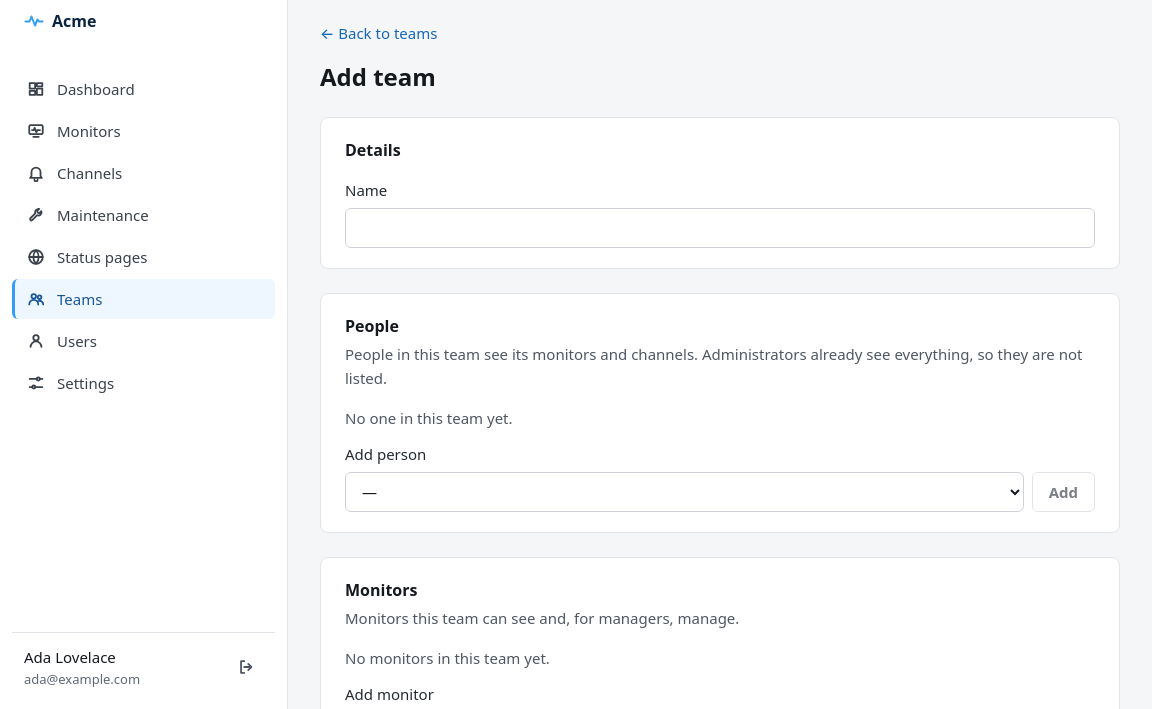
it: Teams pages › shows a duplicate name error next to the field
Type "Platform" into the field labelled "Name" at (720, 228), box [345,208,1095,248]
(page scrolled)
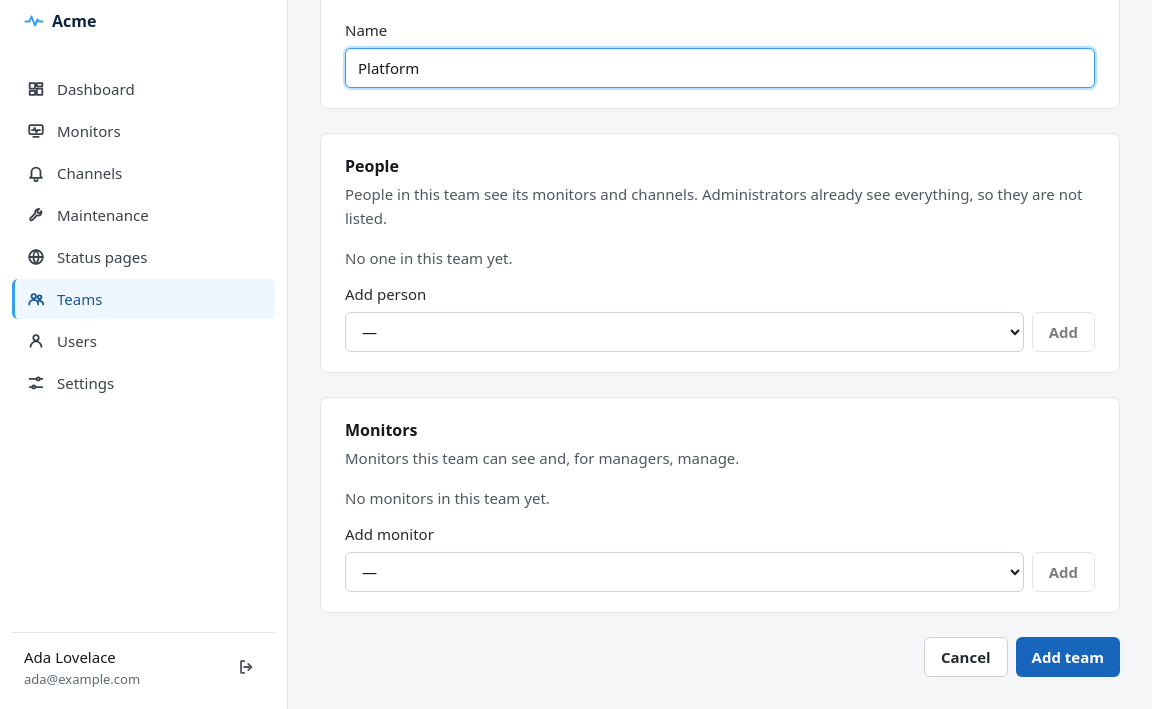
Click the button "Add team" at (1068, 657), box [1016,637,1120,677]
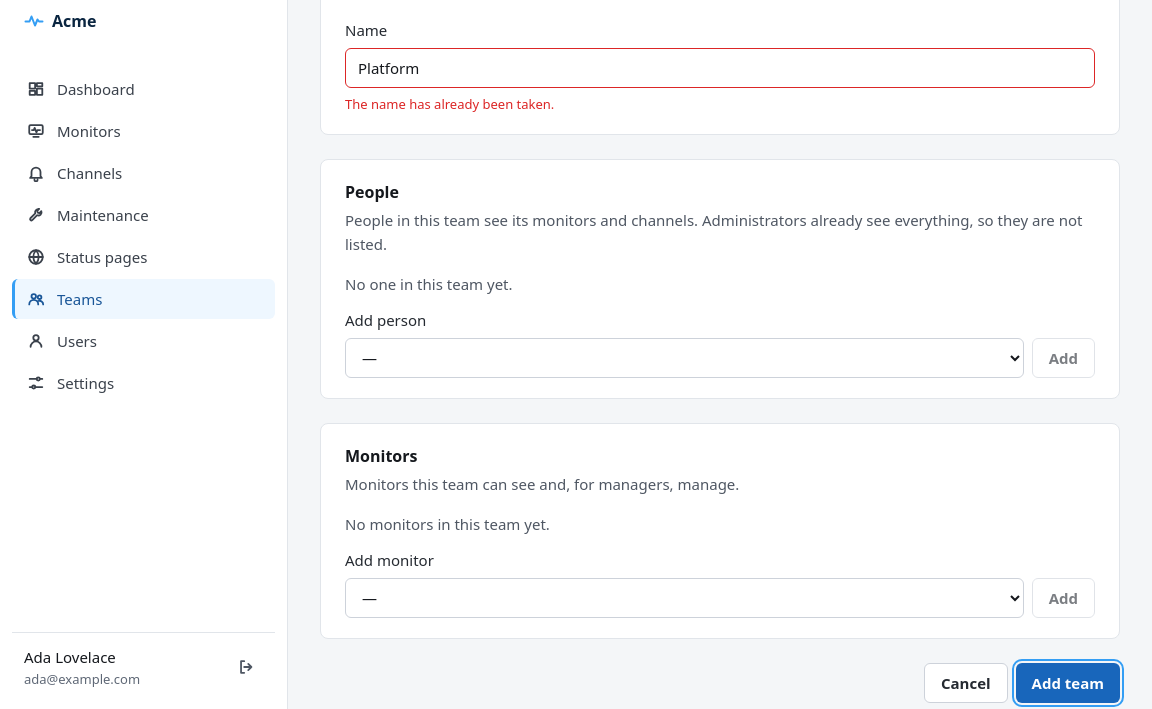
Expected: the text "The name has already been taken." is shown, [345,95,554,113]
